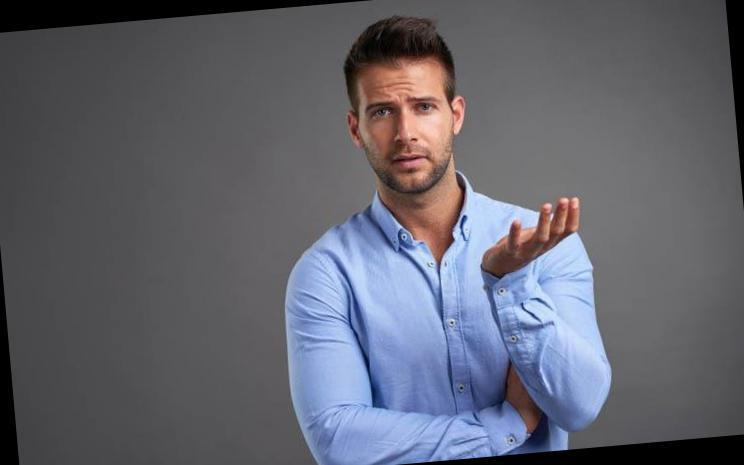Sober: (368, 63, 451, 176)
